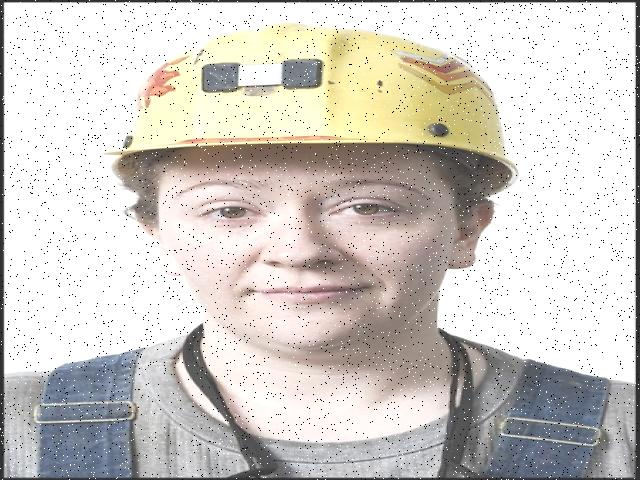Helmet: (90, 17, 528, 196)
